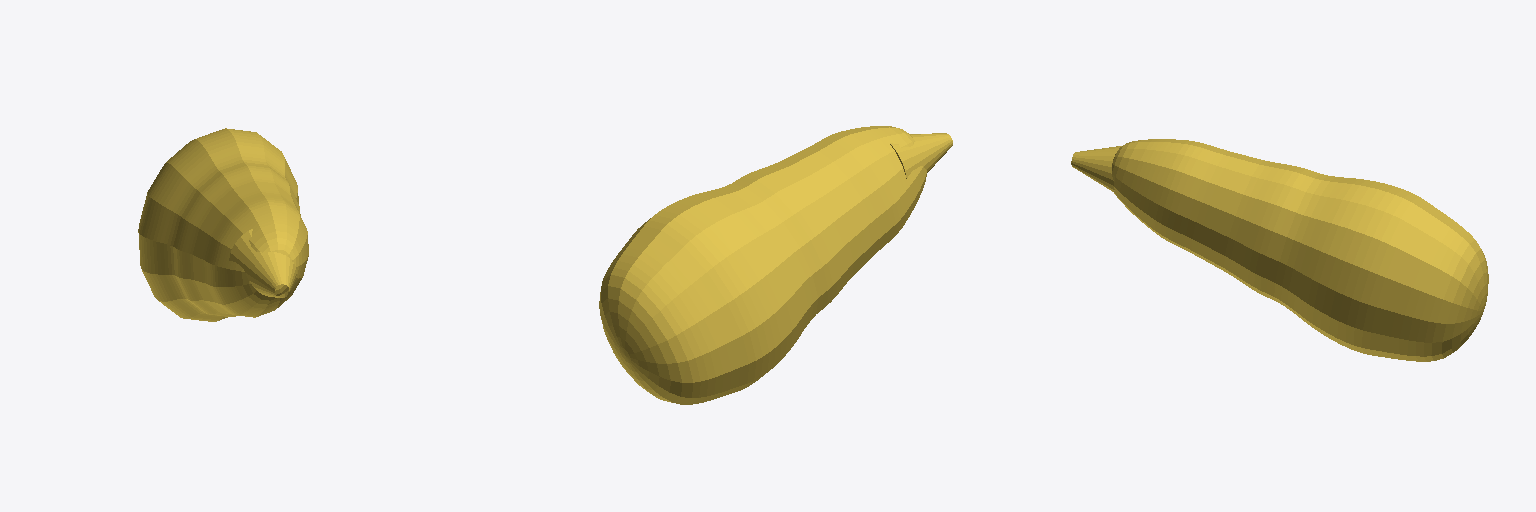
The model's file is gallbladderGREENNEWEST1.obj.
3 views of the same model, side by side, from view 1: azimuth 30°, elevation 25°; view 2: azimuth 150°, elevation 25°; view 3: azimuth 270°, elevation 25° (orthographic).
Parts seen in each view (by area): view 1: GallBladder; view 2: GallBladder; view 3: GallBladder.
Part boxes in pixels (x1,y1,x2,y2): GallBladder: (138,128,308,321); GallBladder: (599,126,952,404); GallBladder: (1071,139,1488,361).
Bounding box in the file's own units: 1.35 × 1.41 × 2.81.